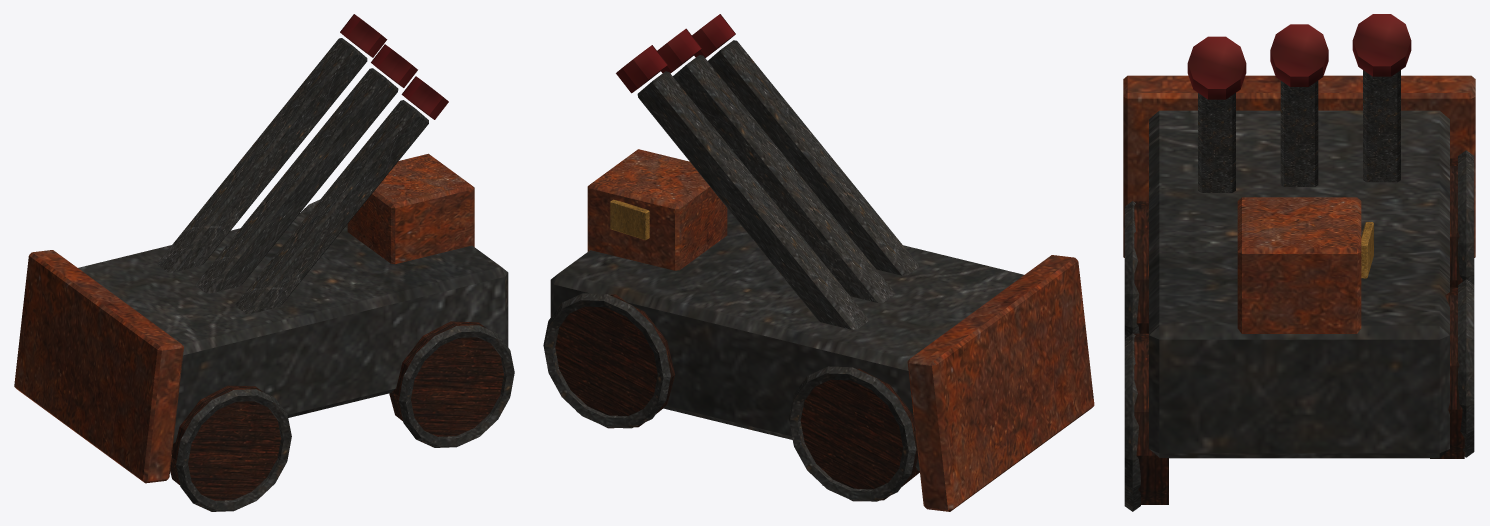
File: rocket_cart.glb
The picture shows the model from 3 angles, left to right: view 1: azimuth 30°, elevation 25°; view 2: azimuth 150°, elevation 25°; view 3: azimuth 270°, elevation 25°; orthographic projection. The views are drawn at different scales.
Visible parts, largest first — view 1: rocket_cart; view 2: rocket_cart; view 3: rocket_cart.
Part boxes in pixels (bbox=[...]): rocket_cart: bbox=[14, 14, 514, 511]; rocket_cart: bbox=[543, 14, 1094, 511]; rocket_cart: bbox=[1123, 14, 1475, 511].
Size of the model in its own units: 3.38 by 3.2 by 2.05.
Materials: 1 (1 with a texture image).
